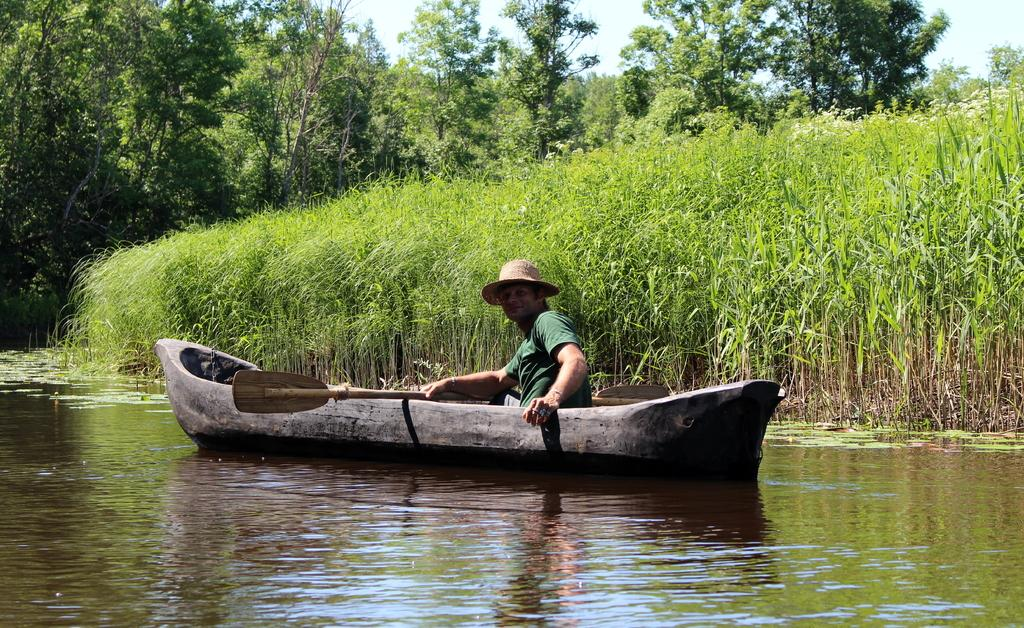Hat: (483, 260, 559, 300)
